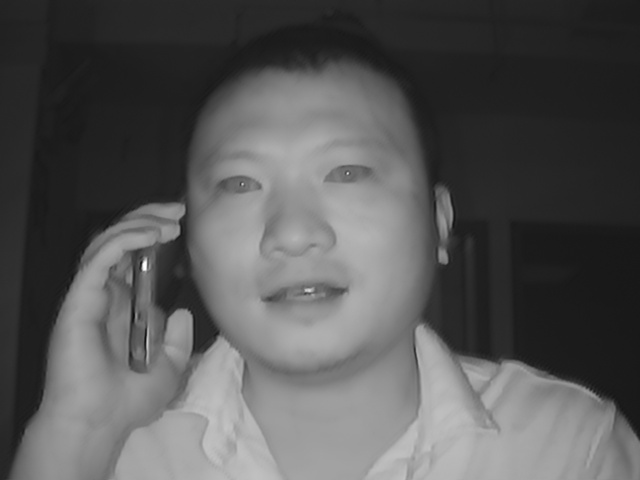hand: (44, 200, 192, 423)
